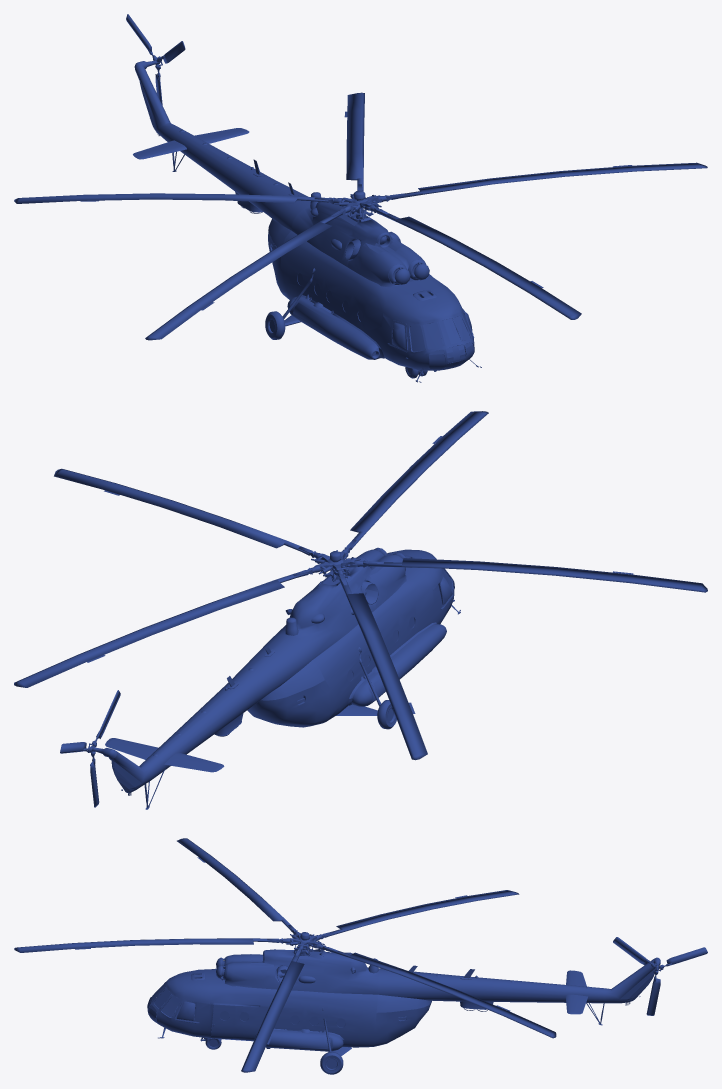
The picture shows the model from 3 angles, top to bottom: view 1: azimuth 30°, elevation 25°; view 2: azimuth 150°, elevation 25°; view 3: azimuth 270°, elevation 25°; orthographic projection. The views are drawn at different scales.
Visible parts, largest first — view 1: mi8_Material #2460_0, lopocty_Material #1469_0, mi8_Material #2419_0, mi8_Material #1468_0, lopocty_Material #1470_0, zad.vint_Material #1473_0; view 2: mi8_Material #2460_0, lopocty_Material #1469_0, lopocty_Material #1470_0, mi8_Material #1468_0, zad.vint_Material #1473_0; view 3: mi8_Material #2460_0, lopocty_Material #1469_0, mi8_Material #2419_0, mi8_Material #1468_0, zad.vint_Material #1473_0, lopocty_Material #1470_0, dver_Material #2460_0.
Part boxes in pixels (left/top/right/bottom): mi8_Material #2460_0: left=133, top=60, right=478, bottom=382; lopocty_Material #1469_0: left=14, top=92, right=707, bottom=340; mi8_Material #2419_0: left=297, top=273, right=473, bottom=370; mi8_Material #1468_0: left=156, top=132, right=481, bottom=382; lopocty_Material #1470_0: left=314, top=184, right=404, bottom=219; zad.vint_Material #1473_0: left=126, top=14, right=185, bottom=104; mi8_Material #2460_0: left=93, top=547, right=460, bottom=809; lopocty_Material #1469_0: left=14, top=411, right=707, bottom=760; lopocty_Material #1470_0: left=293, top=539, right=383, bottom=585; mi8_Material #1468_0: left=121, top=573, right=460, bottom=795; zad.vint_Material #1473_0: left=60, top=690, right=120, bottom=807; mi8_Material #2460_0: left=148, top=949, right=660, bottom=1056; lopocty_Material #1469_0: left=14, top=838, right=556, bottom=1072; mi8_Material #2419_0: left=147, top=982, right=345, bottom=1027; mi8_Material #1468_0: left=158, top=950, right=640, bottom=1074; zad.vint_Material #1473_0: left=613, top=937, right=707, bottom=1015; lopocty_Material #1470_0: left=267, top=925, right=337, bottom=955; dver_Material #2460_0: left=211, top=1004, right=235, bottom=1039.
Size of the model in its own units: 22.31 by 5.23 by 27.95.
